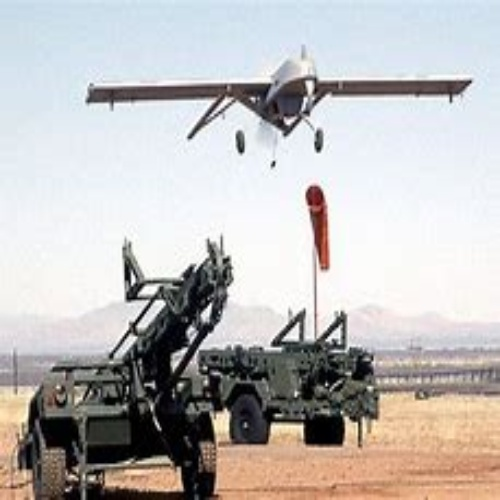uav207: (84, 40, 474, 157)
